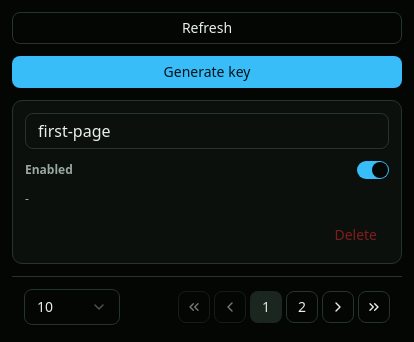
Test case: API key route › returns to the last valid key page after deleting its final row
Click the button named "Next page": [338, 307] box [322, 291, 354, 323]
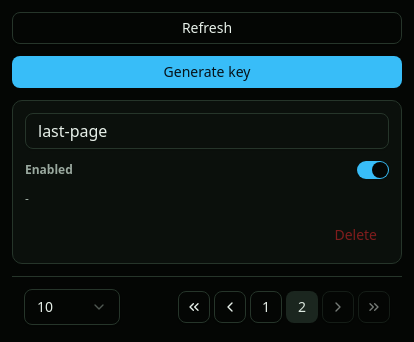
Click the button "Delete": [356, 235] box [322, 219, 389, 251]
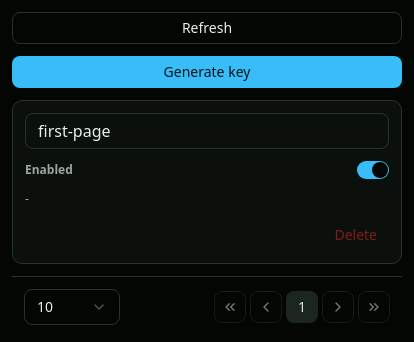
Check: the button named "Page 1 (current)" is shown, box [286, 291, 318, 323]
